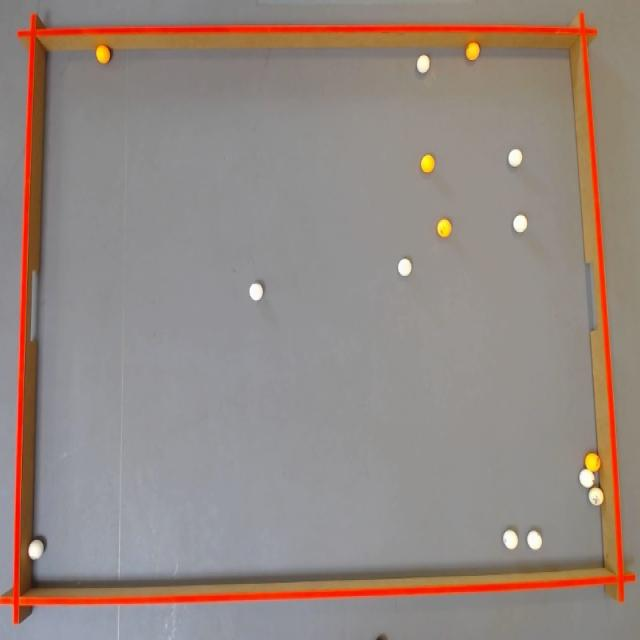orange_ball: (585, 452, 600, 472), (96, 44, 110, 64), (437, 218, 451, 238), (421, 154, 435, 172), (466, 42, 480, 60)
white_ball: (28, 539, 44, 560), (579, 468, 595, 488), (527, 530, 542, 551), (503, 529, 518, 550), (588, 487, 604, 506), (249, 282, 263, 301), (513, 214, 527, 233), (416, 54, 429, 74), (508, 149, 522, 167), (398, 258, 411, 276)
